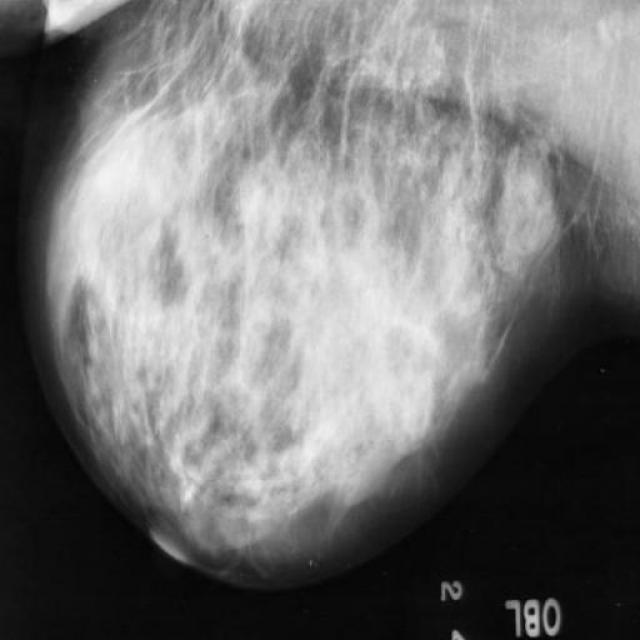cancer: (164, 460, 210, 539)
